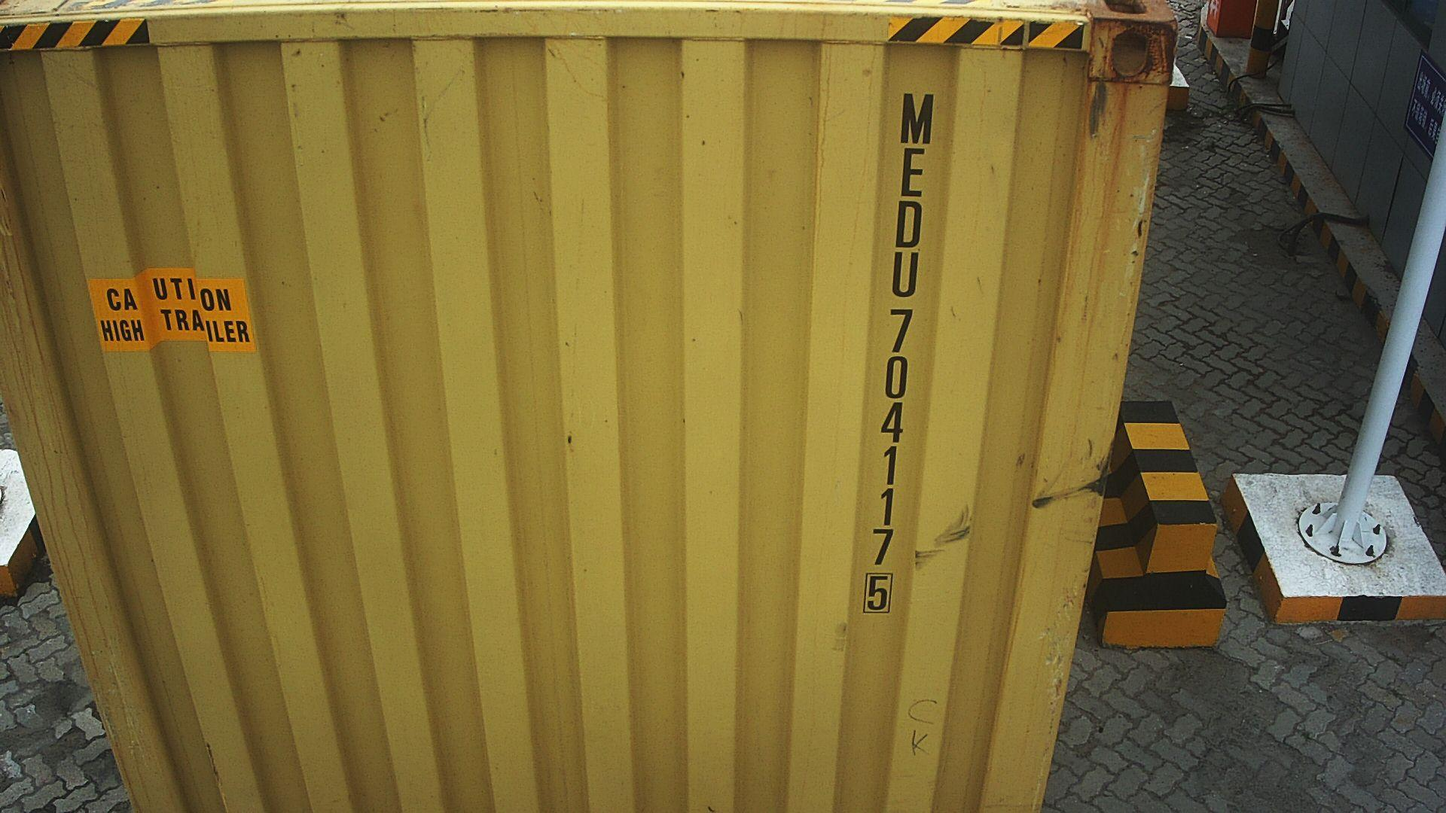container-numbers: (853, 87, 942, 626)
